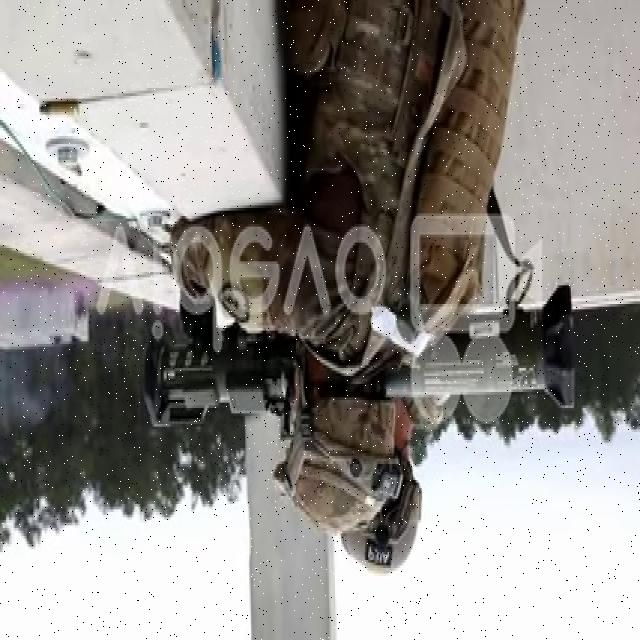bazooka: (140, 272, 580, 440)
